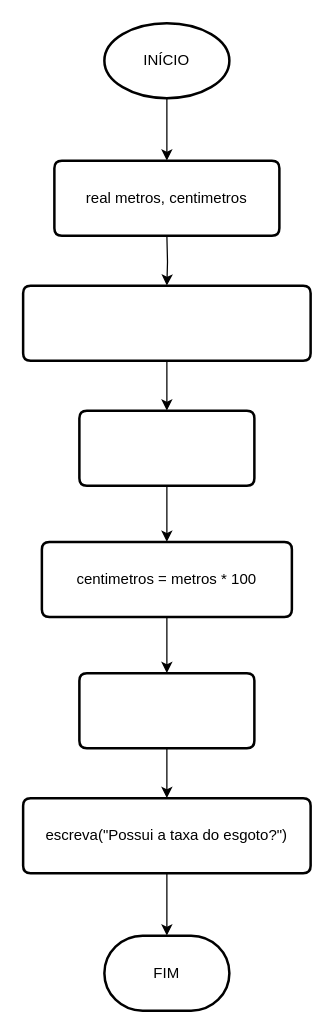
The diagram is 333 pixels wide and 1033 high, and some of its shapes have lost their labels. Each missing label, with the box of its shape:
escreva("Distância em metros: "): (21, 284, 311, 361)
escreva("Equivalente a", centimetros, "cm\n"): (78, 671, 255, 749)
leia (metros): (78, 409, 255, 486)
